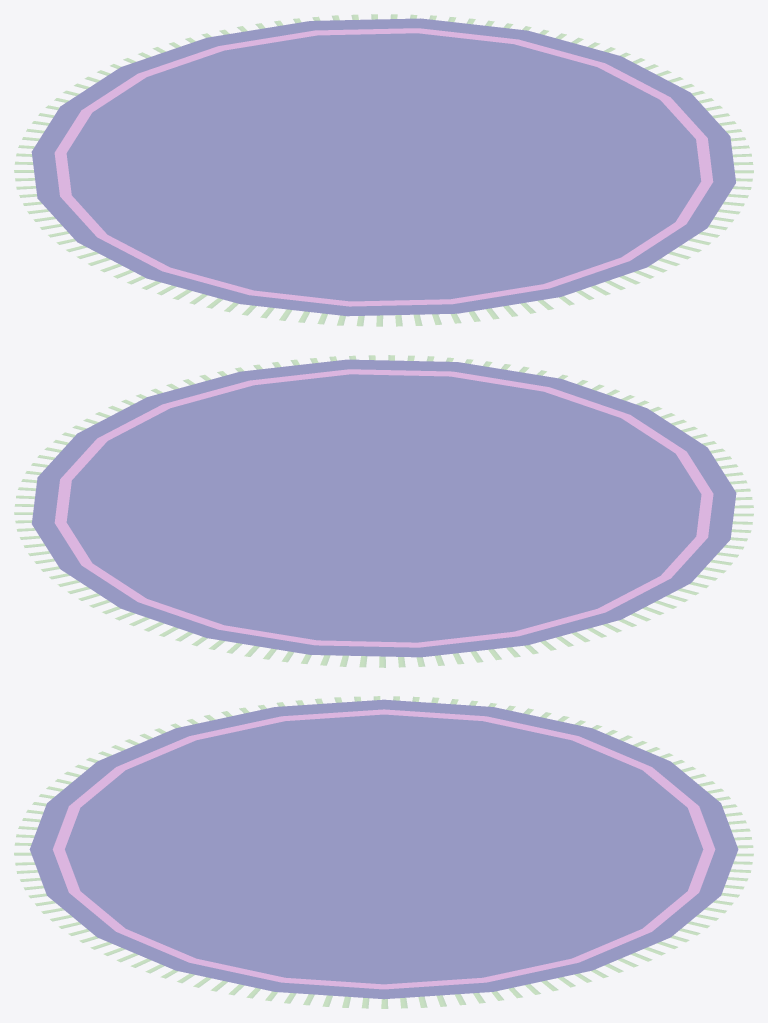
File: round_rug_w_fringe.fbx
3 renders of one model, top to bottom at view 1: azimuth 30°, elevation 25°; view 2: azimuth 150°, elevation 25°; view 3: azimuth 270°, elevation 25°, orthographic.
Visible parts, largest first — view 1: round rug.001; view 2: round rug.001; view 3: round rug.001.
Boxes of the visible parts, x1=… form: round rug.001: x1=14, y1=14, x2=753, y2=326; round rug.001: x1=14, y1=355, x2=753, y2=667; round rug.001: x1=14, y1=696, x2=753, y2=1008.
Bounding box in the file's own units: 6.27 × 0.0282 × 6.26.
1 material, 1 textured.
